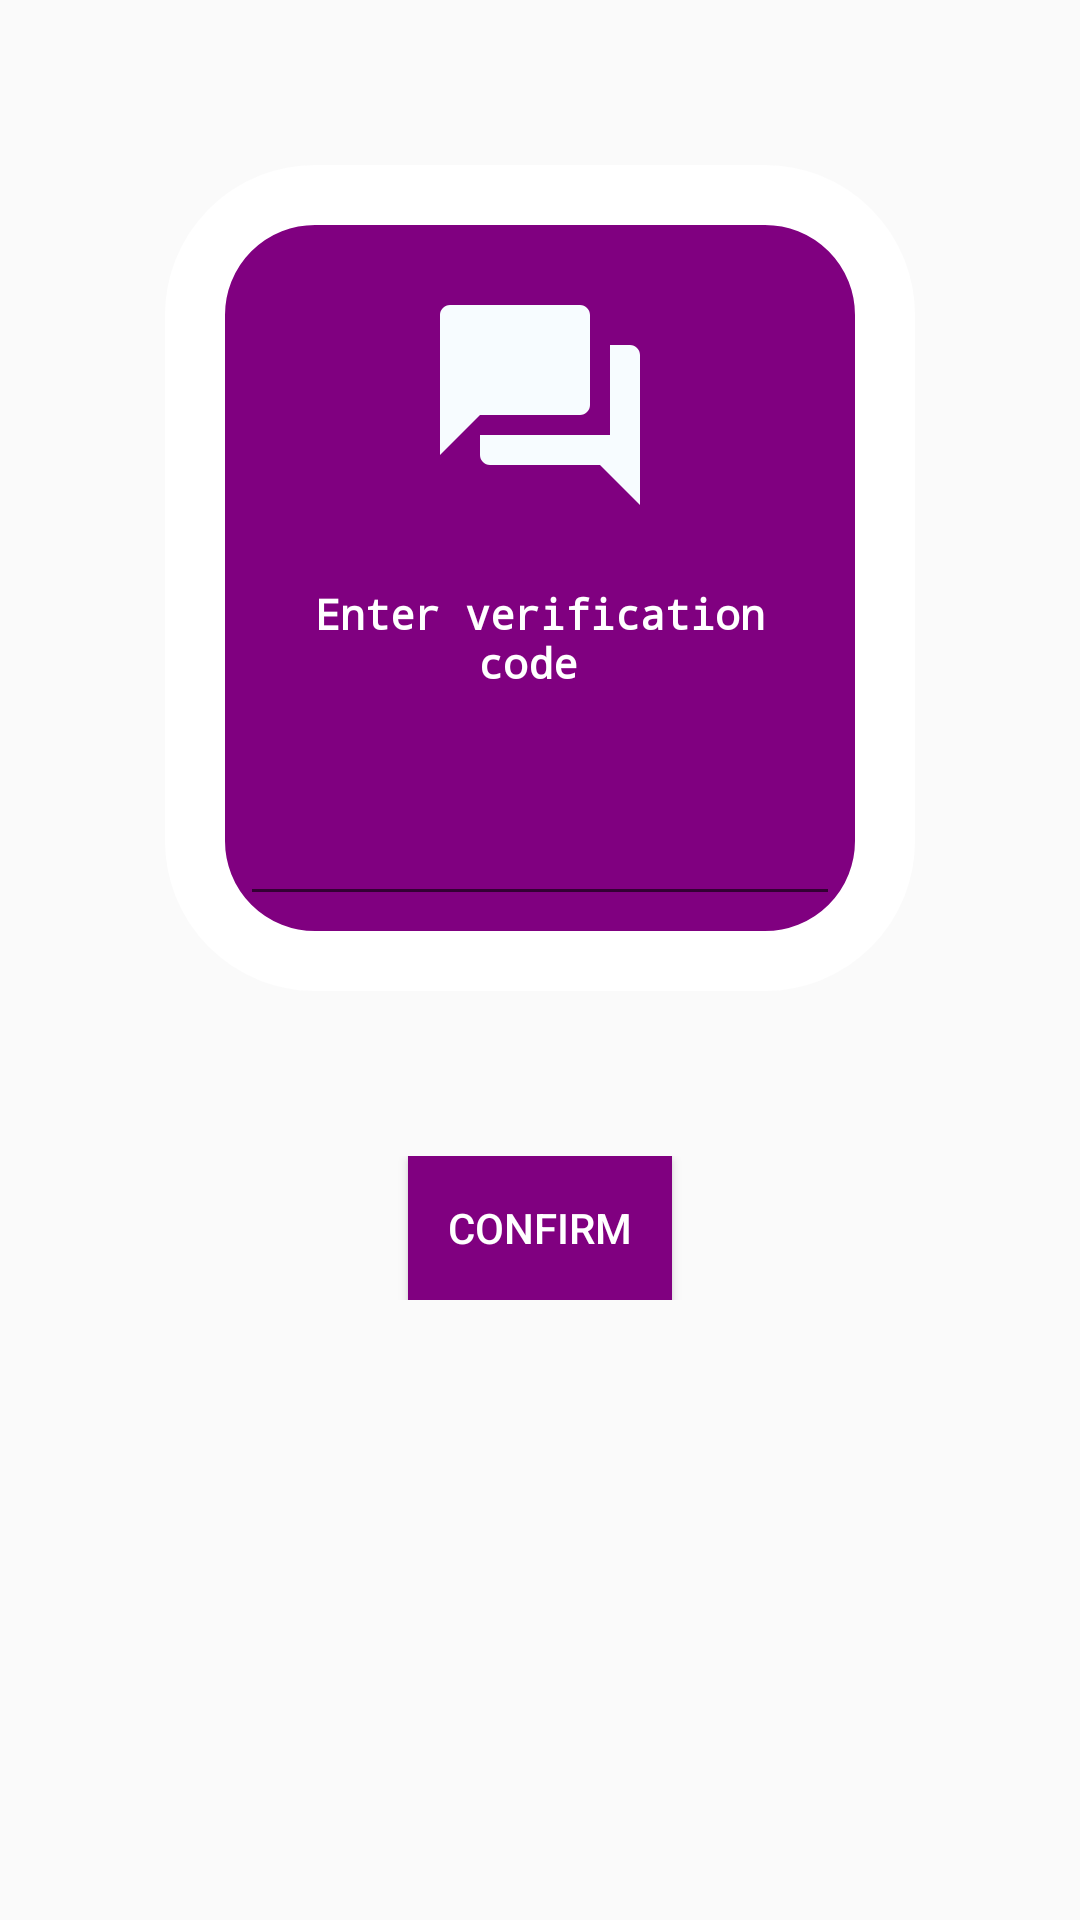

Icon click points for this 1080 × 1920 phone screenshot, format (x=x, y=y):
question answer: (x=540, y=405)
